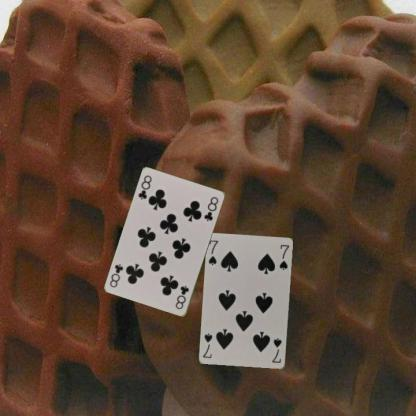7s: (206, 237, 220, 266), (269, 336, 283, 364)
8c: (173, 283, 190, 311), (136, 173, 153, 201)
